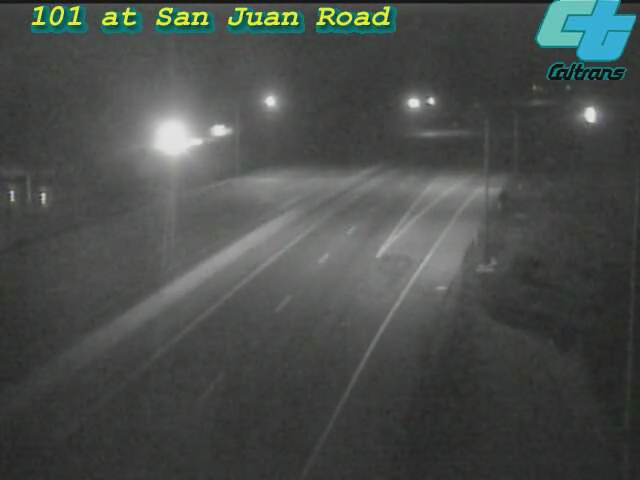vehicle: (567, 90, 617, 140)
